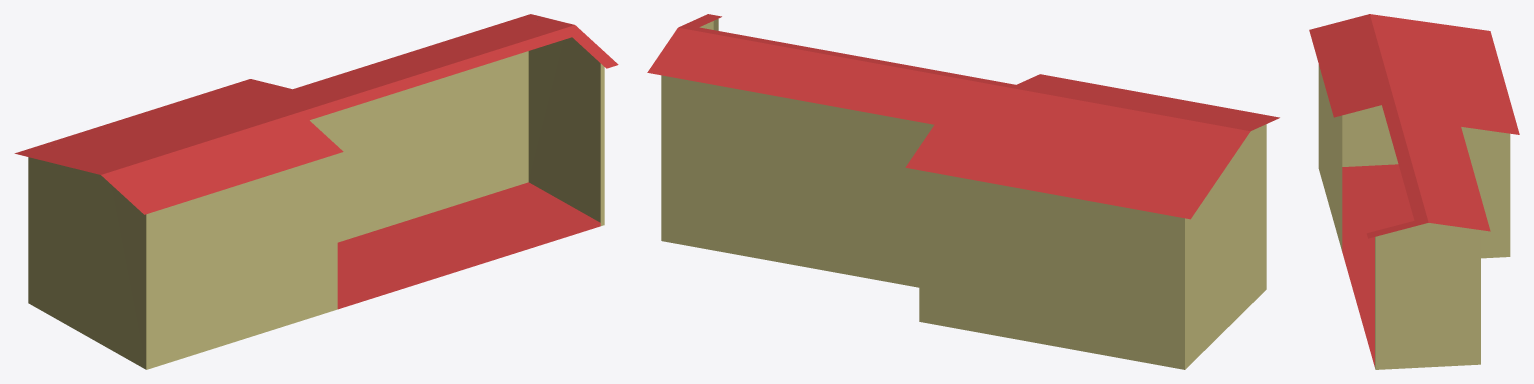
3 renders of one model, left to right at view 1: azimuth 30°, elevation 25°; view 2: azimuth 150°, elevation 25°; view 3: azimuth 270°, elevation 25°, orthographic. The views are drawn at different scales.
Size of the model in its own units: 30.19 by 12.34 by 9.57.
